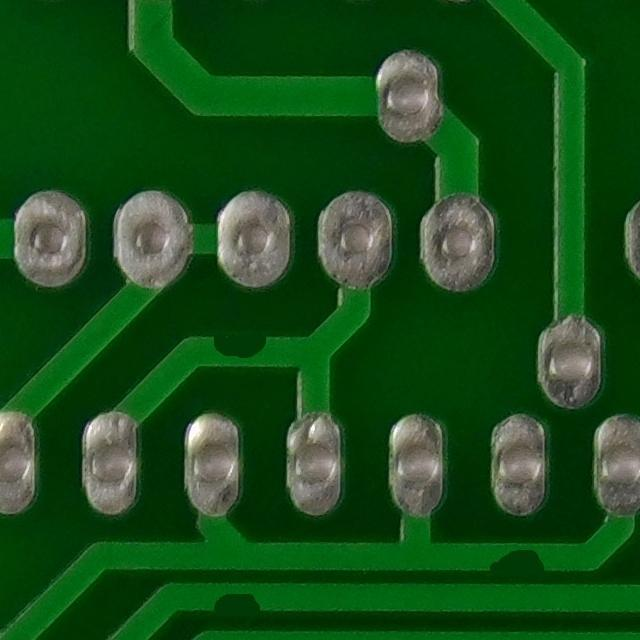mouse_bite: (466, 530, 564, 587), (194, 315, 282, 377), (194, 576, 277, 630)
